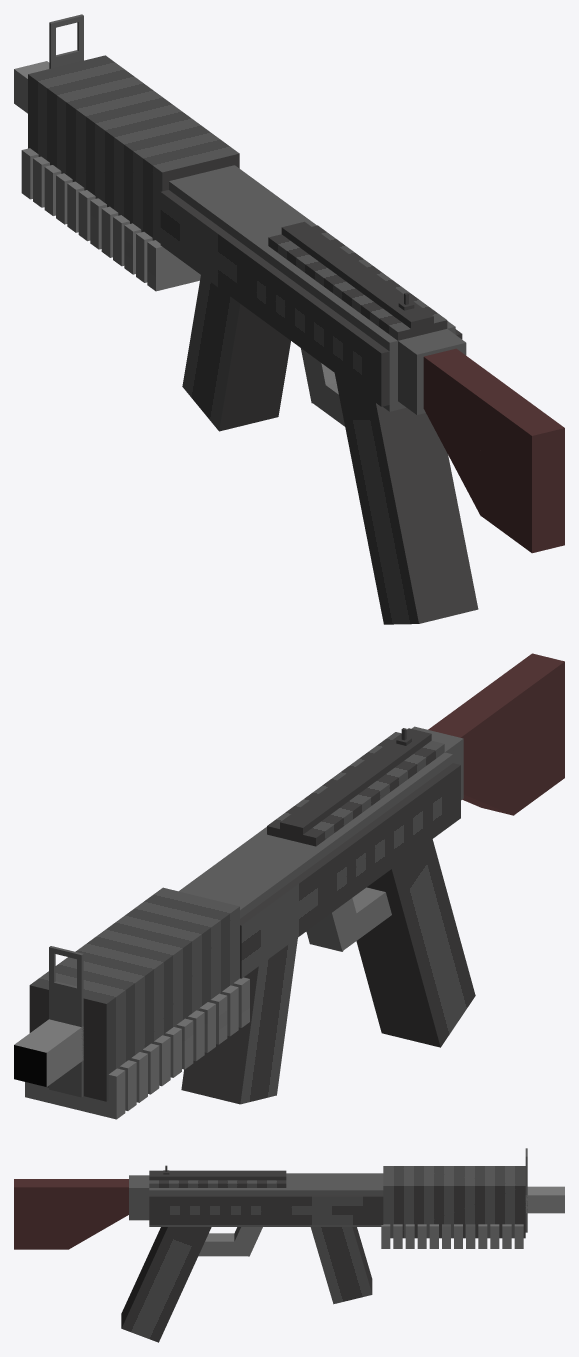
File: fuzil1.gltf
3 views of the same model, one above another, from view 1: azimuth 30°, elevation 25°; view 2: azimuth 150°, elevation 25°; view 3: azimuth 270°, elevation 25° (orthographic). The views are drawn at different scales.
Parts seen in each view (by area): view 1: cube (×14); view 2: cube (×27); view 3: cube (×14).
Part boxes in pixels (<box>): cube (×14): <box>14,55,564,624</box>; cube (×27): <box>14,653,564,1119</box>; cube (×14): <box>14,1166,564,1342</box>.
Size of the model in its own units: 0.175 by 0.6239 by 1.71.
Materials: 1 (1 with a texture image).
